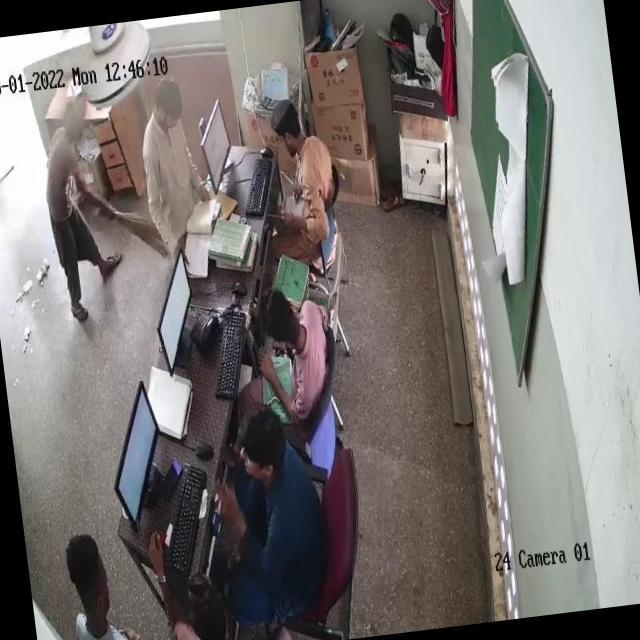person: (225, 397, 342, 633), (39, 91, 106, 282), (248, 291, 330, 413), (134, 80, 195, 240), (273, 93, 331, 251), (68, 530, 150, 640), (145, 557, 248, 640)
